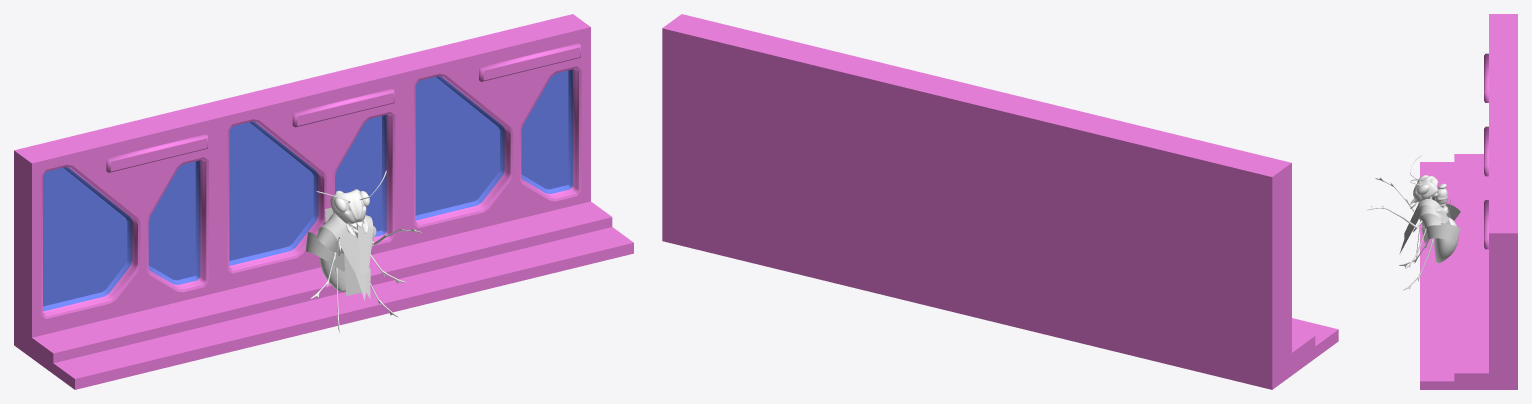
The model's file is Velox.fbx.
3 views of the same model, side by side, from view 1: azimuth 30°, elevation 25°; view 2: azimuth 150°, elevation 25°; view 3: azimuth 270°, elevation 25° (orthographic). The views are drawn at different scales.
Parts seen in each view (by area): view 1: Wall A, Wall C, Wall B, Head, Plane016, Plane012; view 2: Wall A, Wall C, Wall B; view 3: Wall C, Wall B, Wall A, Thorax, Plane011, Head, Plane015, Plane013, Plane017.
Part boxes in pixels (bbox=[...]): Wall A: bbox=[14, 105, 261, 389]; Wall C: bbox=[387, 14, 633, 298]; Wall B: bbox=[201, 59, 447, 344]; Head: bbox=[330, 189, 366, 227]; Plane016: bbox=[317, 219, 370, 298]; Plane012: bbox=[305, 232, 344, 271]; Wall A: bbox=[1069, 113, 1338, 389]; Wall C: bbox=[662, 14, 884, 290]; Wall B: bbox=[865, 63, 1087, 340]; Wall C: bbox=[1420, 160, 1517, 389]; Wall B: bbox=[1420, 87, 1517, 307]; Wall A: bbox=[1420, 14, 1517, 234]; Thorax: bbox=[1434, 183, 1458, 263]; Plane011: bbox=[1421, 223, 1460, 242]; Head: bbox=[1412, 176, 1438, 202]; Plane015: bbox=[1399, 205, 1450, 253]; Plane013: bbox=[1419, 210, 1448, 229]; Plane017: bbox=[1404, 199, 1440, 237].
Bounding box in the file's own units: 9000 × 3000 × 2614.
